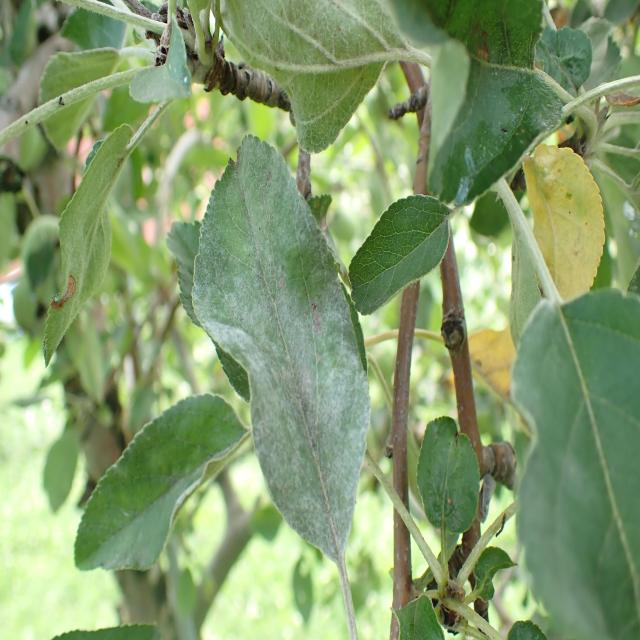Powdery_mildew: (194, 127, 360, 582), (204, 0, 428, 150)
